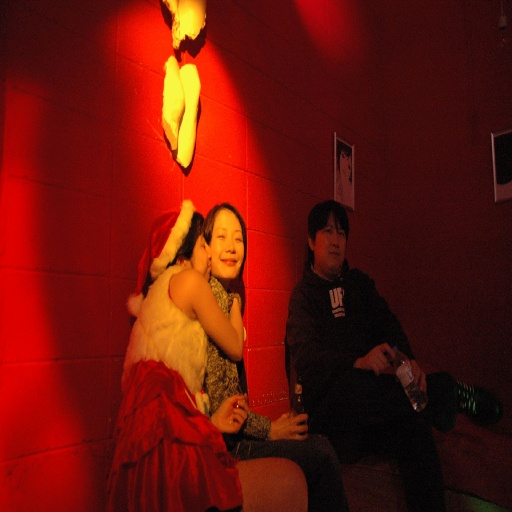hand: (213, 393, 249, 432), (358, 342, 397, 375), (274, 411, 307, 443), (409, 358, 429, 391)
